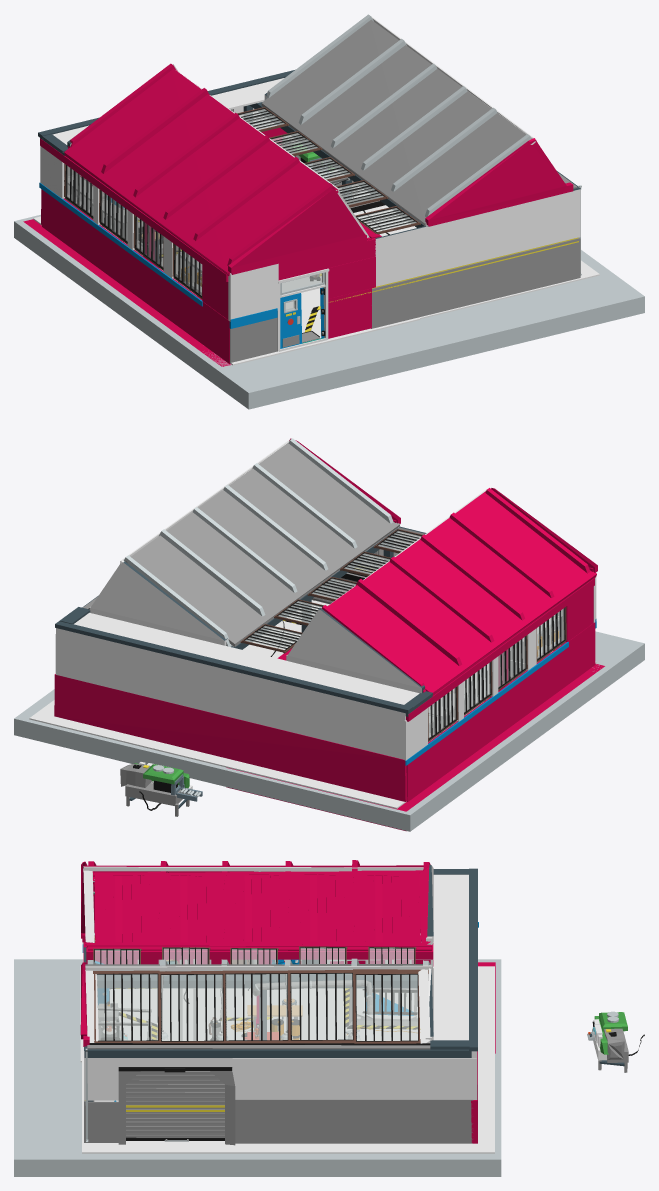
Rendered from factoryOld.FBX.
3 renders of one model, top to bottom at view 1: azimuth 30°, elevation 25°; view 2: azimuth 150°, elevation 25°; view 3: azimuth 270°, elevation 25°, orthographic. The views are drawn at different scales.
Parts seen in each view (by area): view 1: mesh1579950011, mesh134314137, mesh2014645610, mesh1137442161; view 2: mesh1579950011, mesh134314137, mesh1761773202, mesh1137442161; view 3: mesh1579950011, mesh134314137, mesh969649925, mesh989105887, mesh1761773202.
Part boxes in pixels (box(x1,y1,x2,y2)): mesh1579950011: box(14, 14, 644, 409); mesh134314137: box(64, 107, 420, 298); mesh2014645610: box(280, 293, 302, 348); mesh1137442161: box(64, 174, 201, 295); mesh1579950011: box(14, 438, 644, 831); mesh134314137: box(240, 529, 566, 741); mesh1761773202: box(120, 762, 202, 816); mesh1137442161: box(428, 615, 560, 742); mesh1579950011: box(14, 860, 501, 1176); mesh134314137: box(93, 946, 416, 964); mesh969649925: box(110, 988, 420, 1039); mesh989105887: box(93, 869, 468, 1043); mesh1761773202: box(587, 1011, 628, 1072).
Size of the model in its own units: 6.77 by 2.87 by 9.
